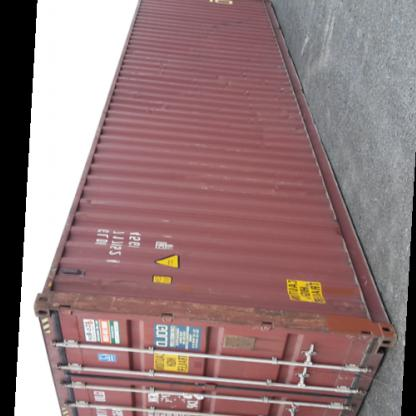Damage: (37, 285, 331, 335)
